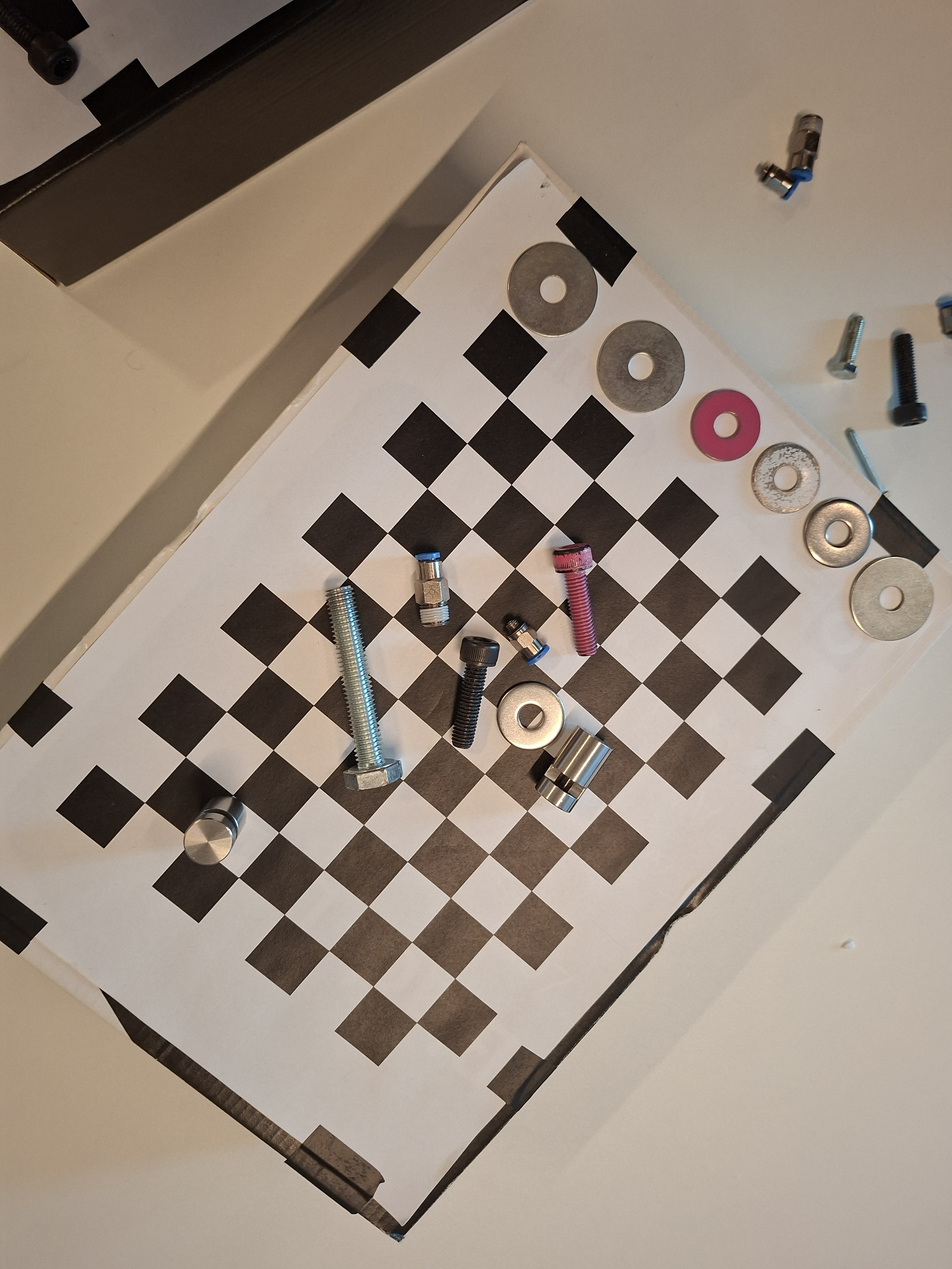allen_screw: (434, 632, 504, 756), (549, 540, 609, 661)
barrel_nut: (168, 782, 259, 879), (528, 720, 617, 819)
hex_bolt: (305, 577, 409, 794)
pneumatic_fitting: (406, 545, 456, 633), (494, 607, 555, 671)
washer: (491, 230, 614, 355), (583, 306, 699, 429), (847, 552, 937, 653), (681, 378, 768, 472), (494, 677, 571, 757), (749, 442, 824, 522), (800, 503, 874, 576)
